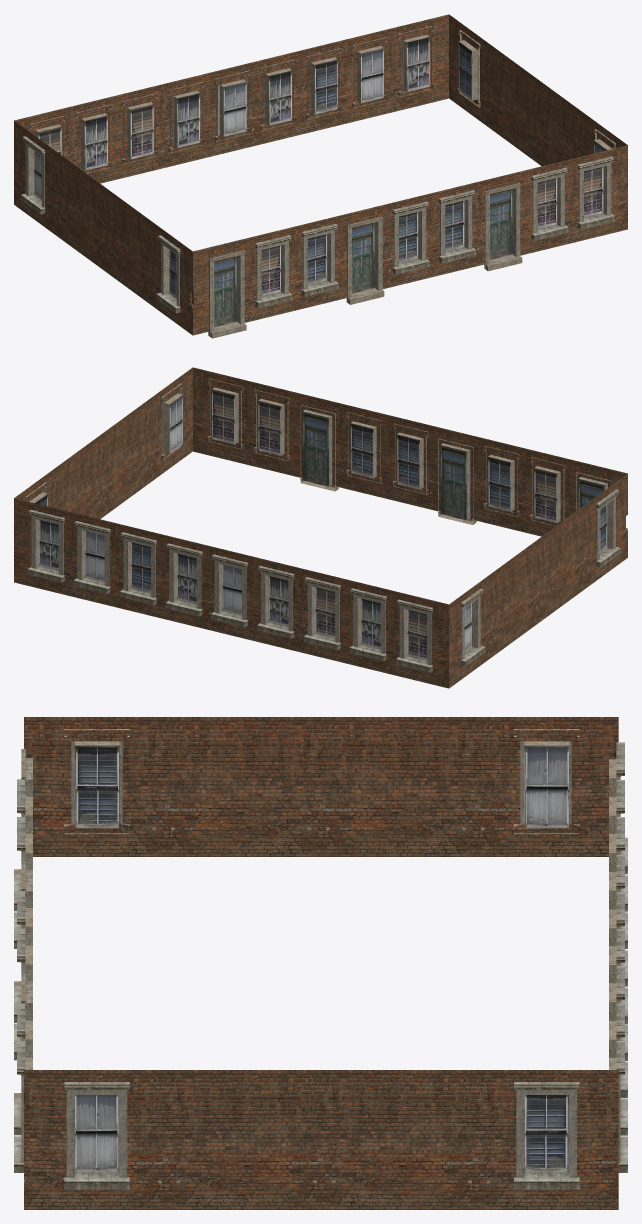
The model's file is Build5_el3.fbx.
The picture shows the model from 3 angles, top to bottom: view 1: azimuth 30°, elevation 25°; view 2: azimuth 150°, elevation 25°; view 3: azimuth 270°, elevation 25°; orthographic projection. The views are drawn at different scales.
Parts seen in each view (by area): view 1: f_1; view 2: f_1; view 3: f_1.
Boxes of the visible parts, left/top/right/bottom form: f_1: left=14, top=14, right=627, bottom=338; f_1: left=14, top=367, right=627, bottom=688; f_1: left=14, top=717, right=627, bottom=1209.
Bounding box in the file's own units: 16.57 × 3.17 × 11.93.
